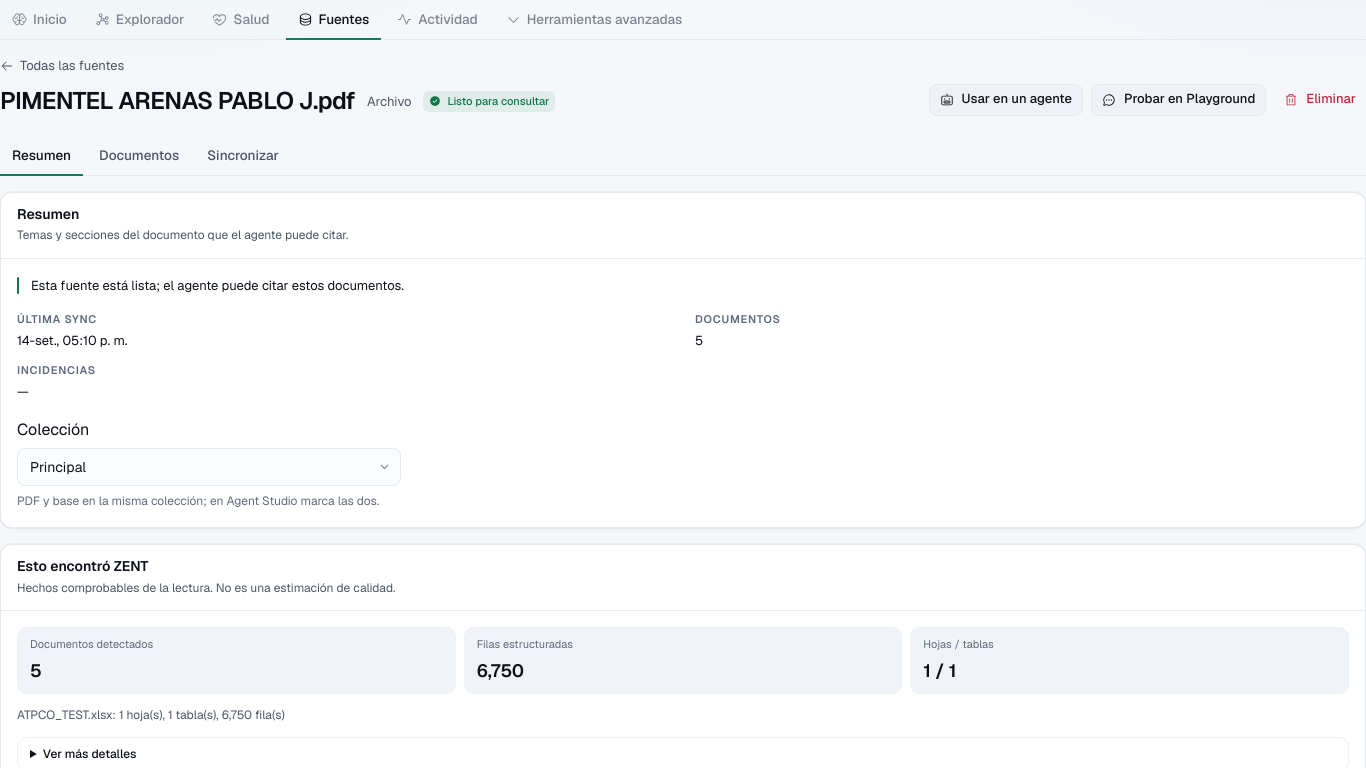
Test: SourceDetailPage › lista el documento indexado
This screenshot has width=1366, height=768.
Click the tab "Documentos": (139, 156) [87, 136, 191, 176]
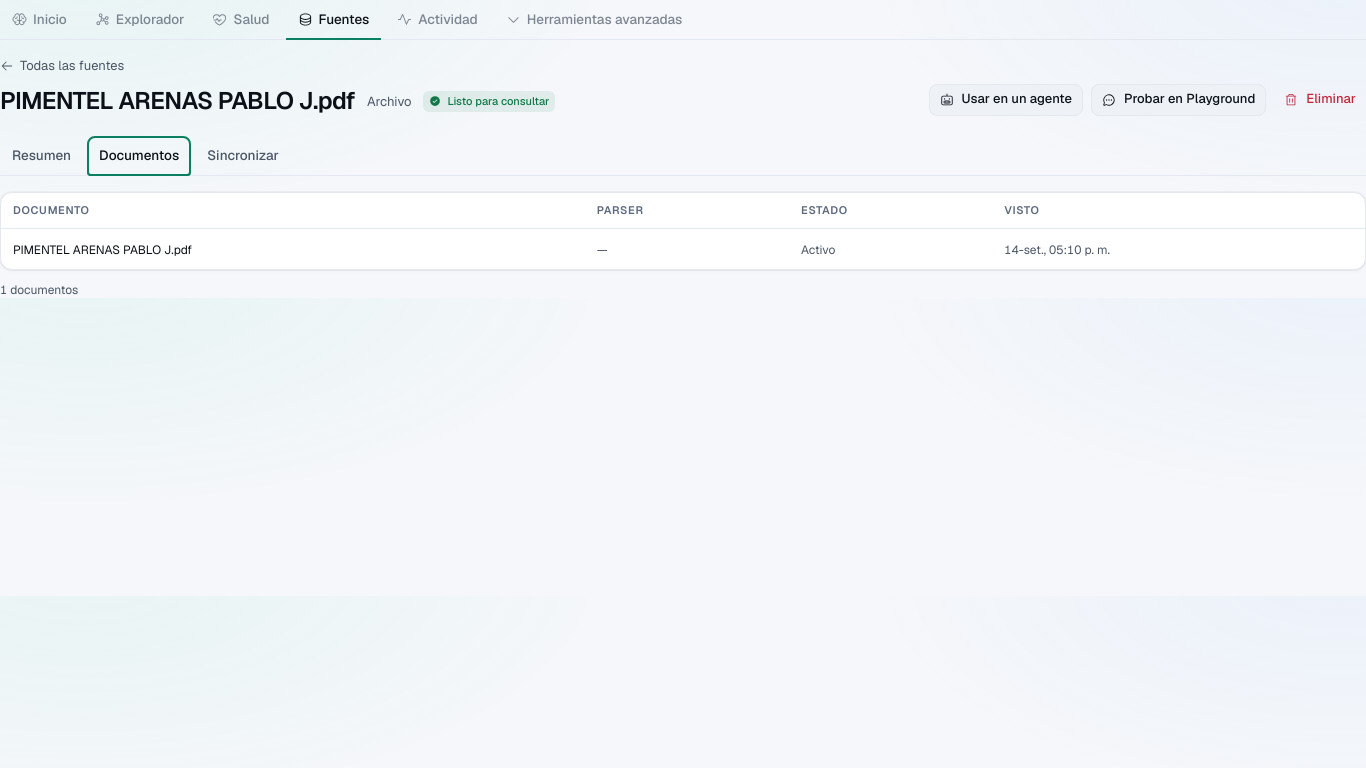
Check: the element with test id "source-documentos" is shown, box [0, 192, 1365, 298]
Check: the element with test id "source-documentos" shows "PIMENTEL ARENAS PABLO J.pdf", box [13, 242, 192, 258]
